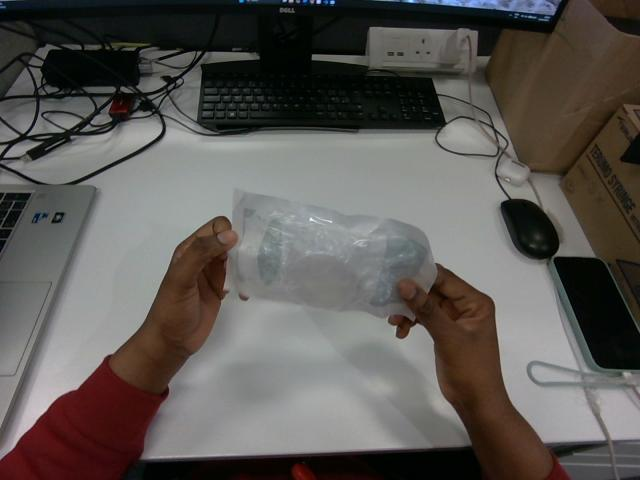gallipot: (229, 190, 436, 317)
